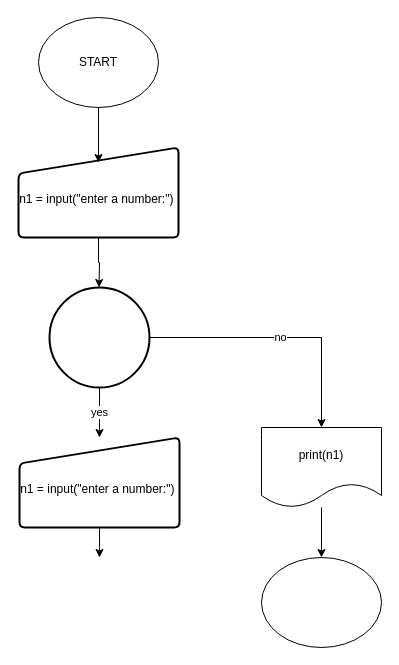
The diagram is 399 pixels wide and 665 high, and some of its shapes have lost their labels. The box of each missing label's shape, as (x1, y1, x2, y2) in pixels:
END: (260, 556, 382, 648)
While n1%3 != 0: (48, 286, 150, 388)
